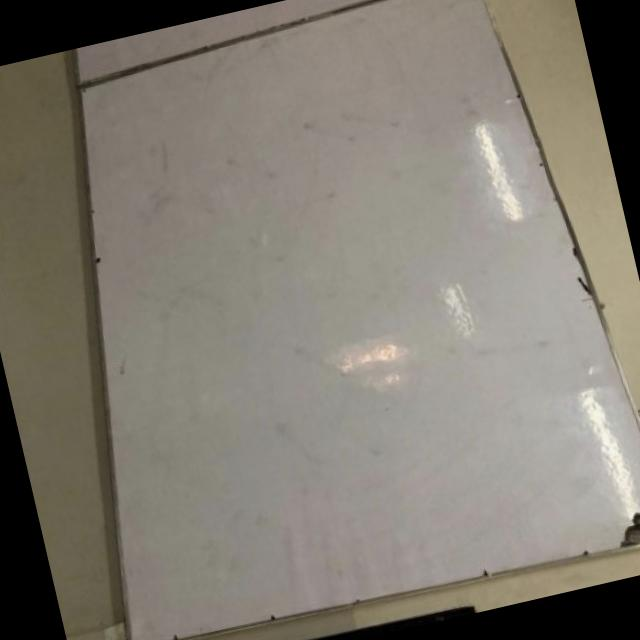White-board: (79, 0, 640, 640)
